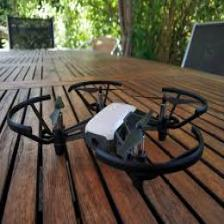drone: (9, 83, 207, 170)
